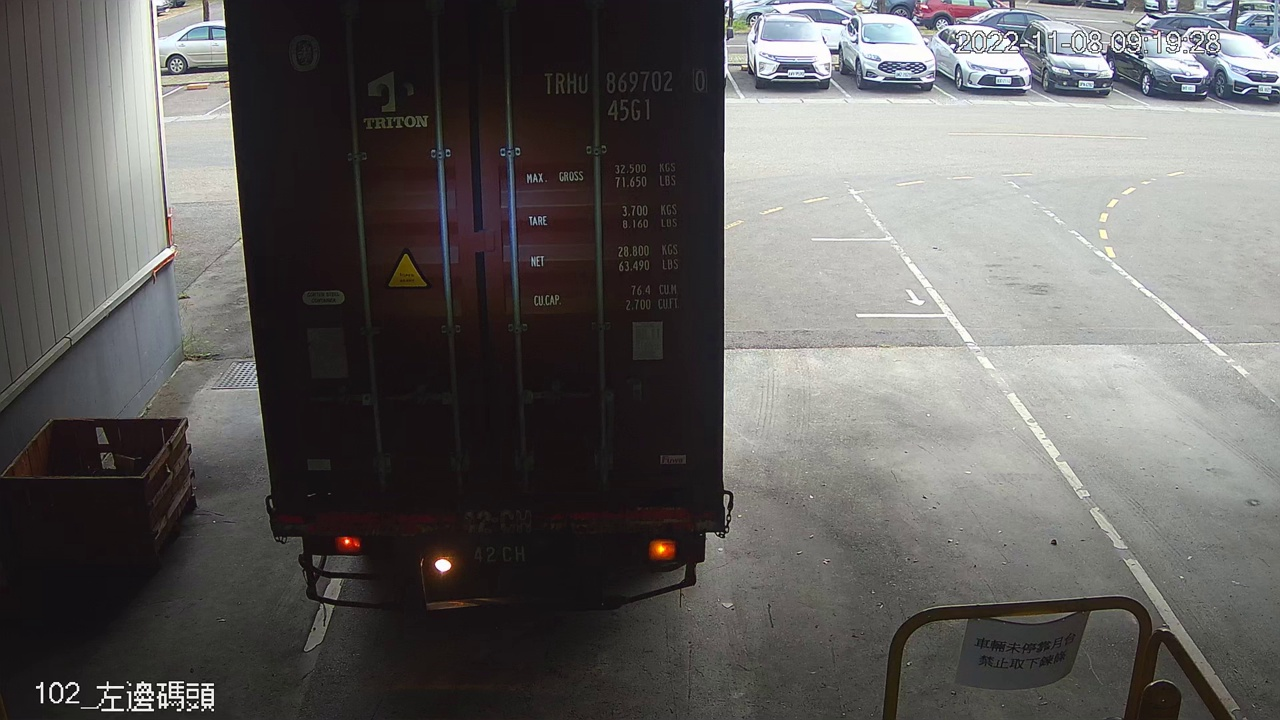container: (533, 59, 715, 127)
